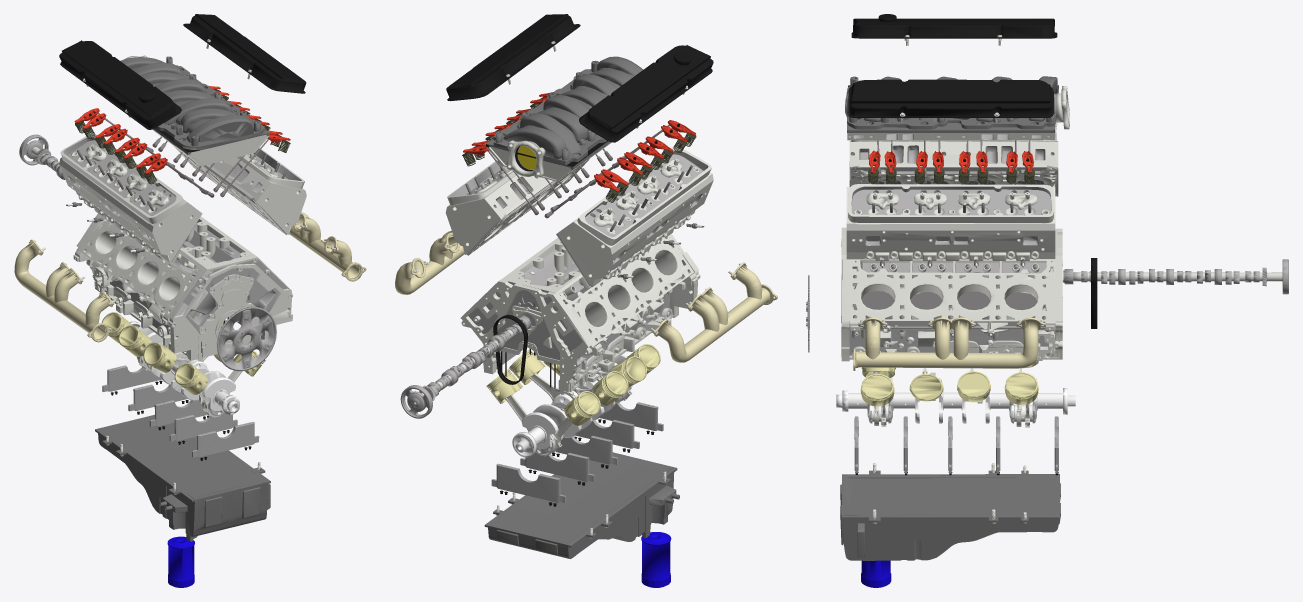
File: compressed v8 engine.glb
The picture shows the model from 3 angles, left to right: view 1: azimuth 30°, elevation 25°; view 2: azimuth 150°, elevation 25°; view 3: azimuth 270°, elevation 25°; orthographic projection. The views are drawn at different scales.
Visible parts, largest first — view 1: Object_89, Object_101, Object_120, Object_115, Object_63, Object_110, Object_65, Object_73, Object_105, Object_102, Object_69, Object_103 (+20 smaller); view 2: Object_89, Object_101, Object_120, Object_115, Object_63, Object_110, Object_102, Object_65, Object_73, Object_105, Object_75, Object_118 (+23 smaller); view 3: Object_89, Object_110, Object_65, Object_102, Object_120, Object_105, Object_71, Object_63, Object_108, Object_115, Object_103, Object_101 (+14 smaller).
Boxes of the visible parts, x1=… form: Object_89: x1=95, y1=414, x2=270, y2=541; Object_101: x1=73, y1=215, x2=292, y2=360; Object_120: x1=59, y1=134, x2=202, y2=262; Object_115: x1=120, y1=56, x2=269, y2=154; Object_63: x1=59, y1=40, x2=181, y2=129; Object_110: x1=174, y1=146, x2=306, y2=234; Object_65: x1=183, y1=14, x2=306, y2=93; Object_73: x1=14, y1=239, x2=113, y2=342; Object_105: x1=91, y1=223, x2=287, y2=346; Object_102: x1=78, y1=215, x2=260, y2=357; Object_69: x1=216, y1=306, x2=276, y2=371; Object_103: x1=73, y1=220, x2=292, y2=360; Object_89: x1=484, y1=452, x2=679, y2=558; Object_101: x1=462, y1=235, x2=698, y2=391; Object_120: x1=556, y1=147, x2=713, y2=287; Object_115: x1=486, y1=56, x2=643, y2=169; Object_63: x1=579, y1=45, x2=713, y2=142; Object_110: x1=445, y1=159, x2=589, y2=255; Object_102: x1=460, y1=235, x2=692, y2=391; Object_65: x1=446, y1=14, x2=580, y2=101; Object_73: x1=653, y1=262, x2=777, y2=362; Object_105: x1=468, y1=249, x2=669, y2=369; Object_75: x1=512, y1=354, x2=632, y2=457; Object_118: x1=585, y1=151, x2=708, y2=264; Object_89: x1=840, y1=470, x2=1060, y2=560; Object_110: x1=846, y1=184, x2=1055, y2=260; Object_65: x1=848, y1=79, x2=1054, y2=117; Object_102: x1=849, y1=260, x2=1062, y2=352; Object_120: x1=849, y1=132, x2=1058, y2=196; Object_105: x1=849, y1=260, x2=1055, y2=355; Object_71: x1=853, y1=317, x2=1045, y2=370; Object_63: x1=851, y1=14, x2=1057, y2=38; Object_108: x1=851, y1=186, x2=1051, y2=245; Object_115: x1=845, y1=76, x2=1058, y2=132; Object_103: x1=841, y1=239, x2=1055, y2=361; Object_101: x1=841, y1=227, x2=1059, y2=360.
Size of the model in its own units: 10.03 by 17.09 by 13.52.
1 material, 1 textured.
